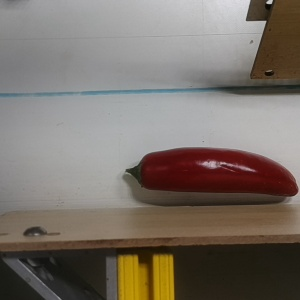Cut Point: (130, 151, 156, 193)
